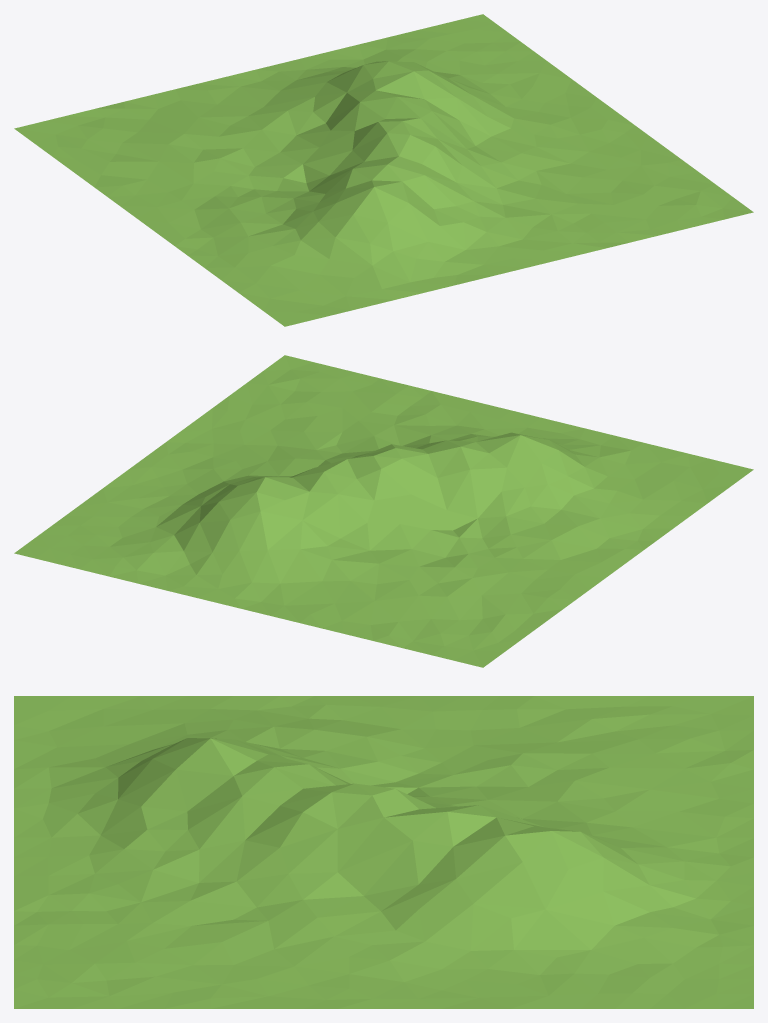
File: MT_Terrain_M_a_17.fbx
3 views of the same model, one above another, from view 1: azimuth 30°, elevation 25°; view 2: azimuth 150°, elevation 25°; view 3: azimuth 270°, elevation 25° (orthographic). The views are drawn at different scales.
Visible parts, largest first — view 1: MT_Terrain_M_a_17; view 2: MT_Terrain_M_a_17; view 3: MT_Terrain_M_a_17.
Boxes of the visible parts, box(x1,y1,x2,y2) form: MT_Terrain_M_a_17: box(14, 14, 753, 326); MT_Terrain_M_a_17: box(14, 355, 753, 667); MT_Terrain_M_a_17: box(14, 696, 753, 1008).
Bounding box in the file's own units: 5000 × 506 × 5000.
